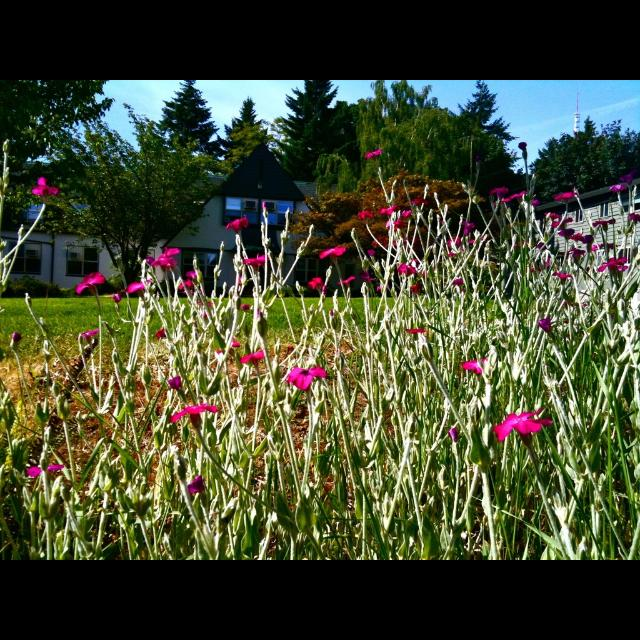Flower: (494, 410, 554, 454), (170, 404, 218, 424), (288, 366, 326, 390), (150, 245, 180, 268), (33, 175, 59, 201), (75, 271, 103, 293), (464, 355, 491, 373), (243, 348, 273, 364), (598, 256, 624, 274), (224, 216, 252, 232), (189, 472, 207, 492), (394, 263, 418, 277), (125, 282, 149, 294), (321, 246, 345, 258), (594, 218, 612, 232), (569, 246, 585, 260), (363, 148, 381, 160), (508, 190, 526, 202), (243, 256, 264, 266), (28, 466, 44, 479), (622, 168, 632, 188), (378, 203, 396, 214), (168, 377, 182, 391), (309, 276, 325, 288), (338, 277, 354, 289), (492, 185, 506, 198), (552, 216, 570, 226), (558, 191, 576, 201), (449, 236, 463, 248), (559, 226, 573, 238), (406, 326, 426, 334), (540, 316, 550, 332), (82, 329, 98, 338), (447, 428, 459, 440), (179, 280, 193, 290), (357, 212, 373, 220), (556, 271, 572, 279), (156, 327, 166, 339), (394, 218, 406, 228), (515, 140, 527, 150), (50, 464, 64, 472), (412, 196, 426, 204), (188, 270, 198, 280), (454, 277, 464, 287), (572, 232, 584, 240), (592, 242, 604, 250), (631, 212, 639, 224), (12, 332, 22, 341), (466, 218, 472, 232), (240, 301, 248, 311), (531, 198, 541, 206), (537, 241, 547, 249), (606, 242, 616, 250), (368, 248, 377, 256), (402, 209, 410, 217), (412, 283, 418, 293), (548, 212, 558, 218), (364, 272, 371, 280), (234, 338, 240, 347), (612, 186, 622, 190)
